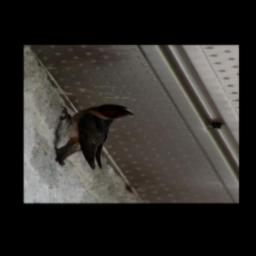Swallow: (51, 104, 134, 169)
